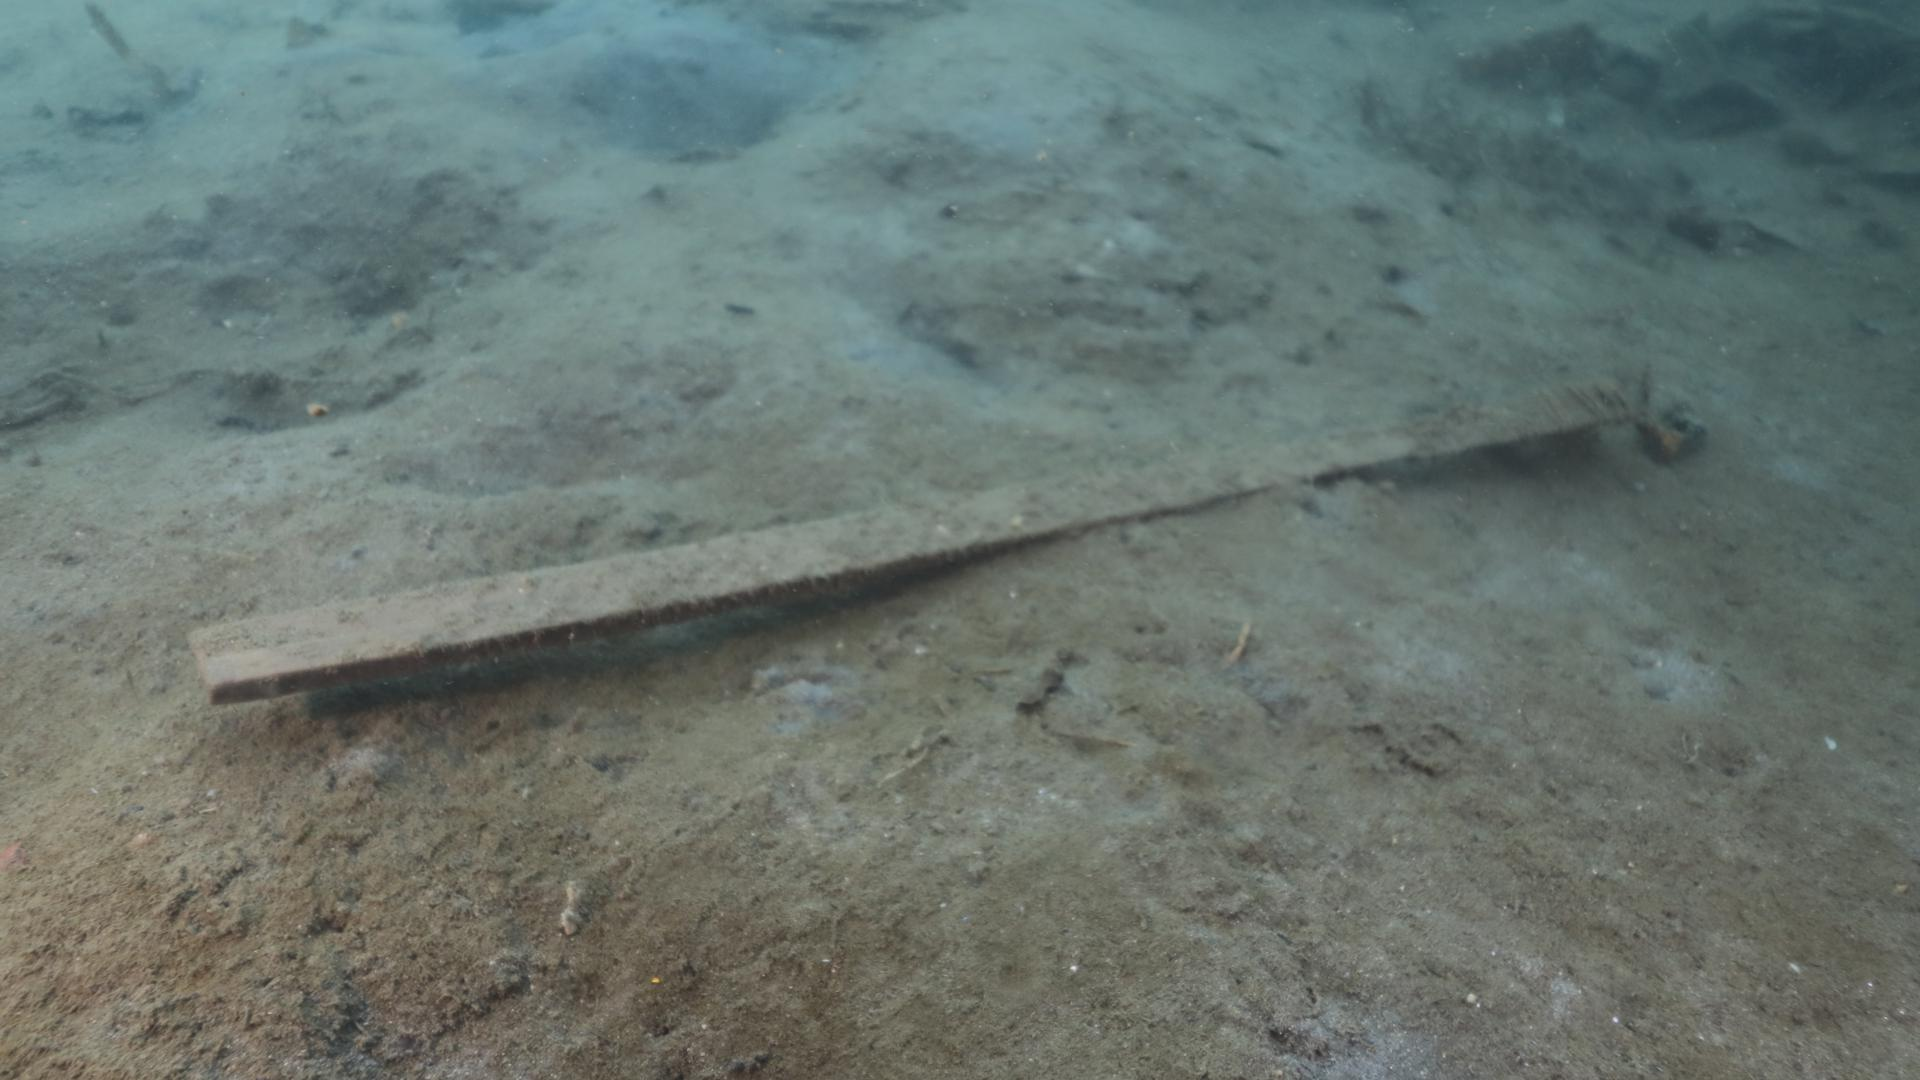wood: (186, 376, 1648, 709)
